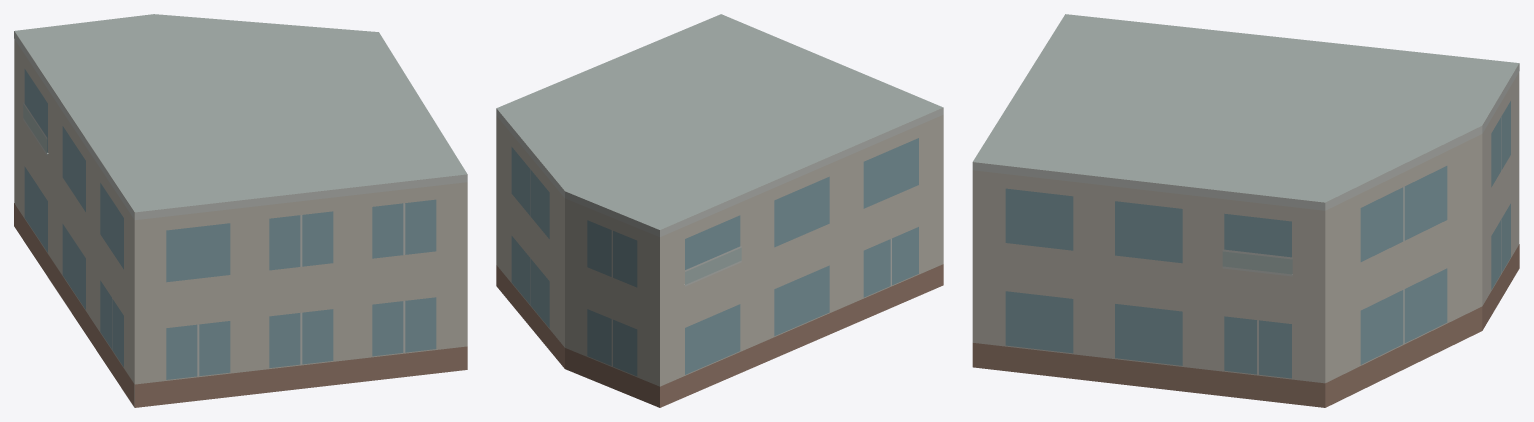
The model's file is survey-upis-32937556.glb.
The picture shows the model from 3 angles, left to right: view 1: azimuth 30°, elevation 25°; view 2: azimuth 150°, elevation 25°; view 3: azimuth 270°, elevation 25°; orthographic projection. The views are drawn at different scales.
Visible parts, largest first — view 1: survey-upis-32937556.tmp; view 2: survey-upis-32937556.tmp; view 3: survey-upis-32937556.tmp.
Boxes of the visible parts, x1,y1,x2,y2 form: survey-upis-32937556.tmp: (14, 14, 467, 407); survey-upis-32937556.tmp: (496, 14, 943, 407); survey-upis-32937556.tmp: (972, 14, 1519, 407).
Bounding box in the file's own units: 12.03 × 6.1 × 14.74.
